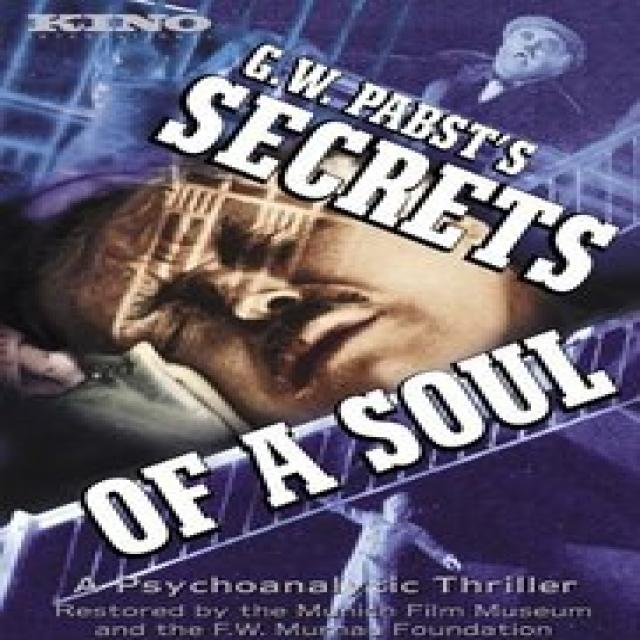movie-judul: (4, 342, 623, 562), (159, 42, 640, 294)
picture: (3, 178, 529, 436)
